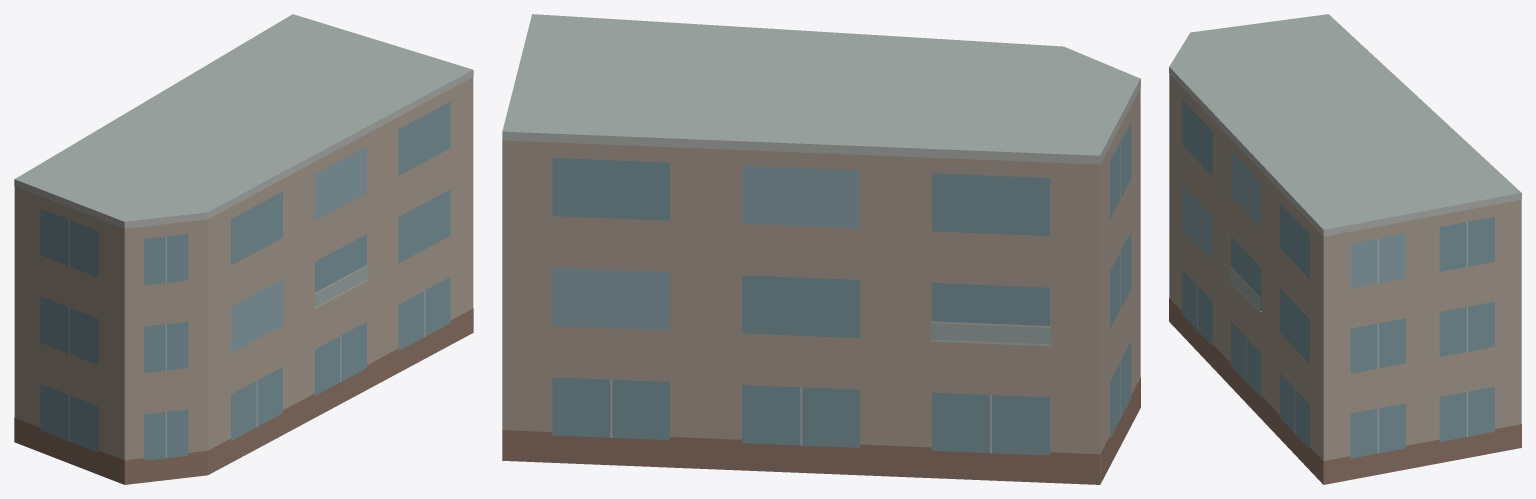
File: survey-upis-32884441.glb
The picture shows the model from 3 angles, left to right: view 1: azimuth 30°, elevation 25°; view 2: azimuth 150°, elevation 25°; view 3: azimuth 270°, elevation 25°; orthographic projection. The views are drawn at different scales.
Parts seen in each view (by area): view 1: survey-upis-32884441.tmp; view 2: survey-upis-32884441.tmp; view 3: survey-upis-32884441.tmp.
Boxes of the visible parts, left/top/right/bottom form: survey-upis-32884441.tmp: left=14, top=14, right=473, bottom=484; survey-upis-32884441.tmp: left=502, top=14, right=1140, bottom=484; survey-upis-32884441.tmp: left=1169, top=14, right=1521, bottom=484.
Bounding box in the file's own units: 16.5 × 9.08 × 11.39.
